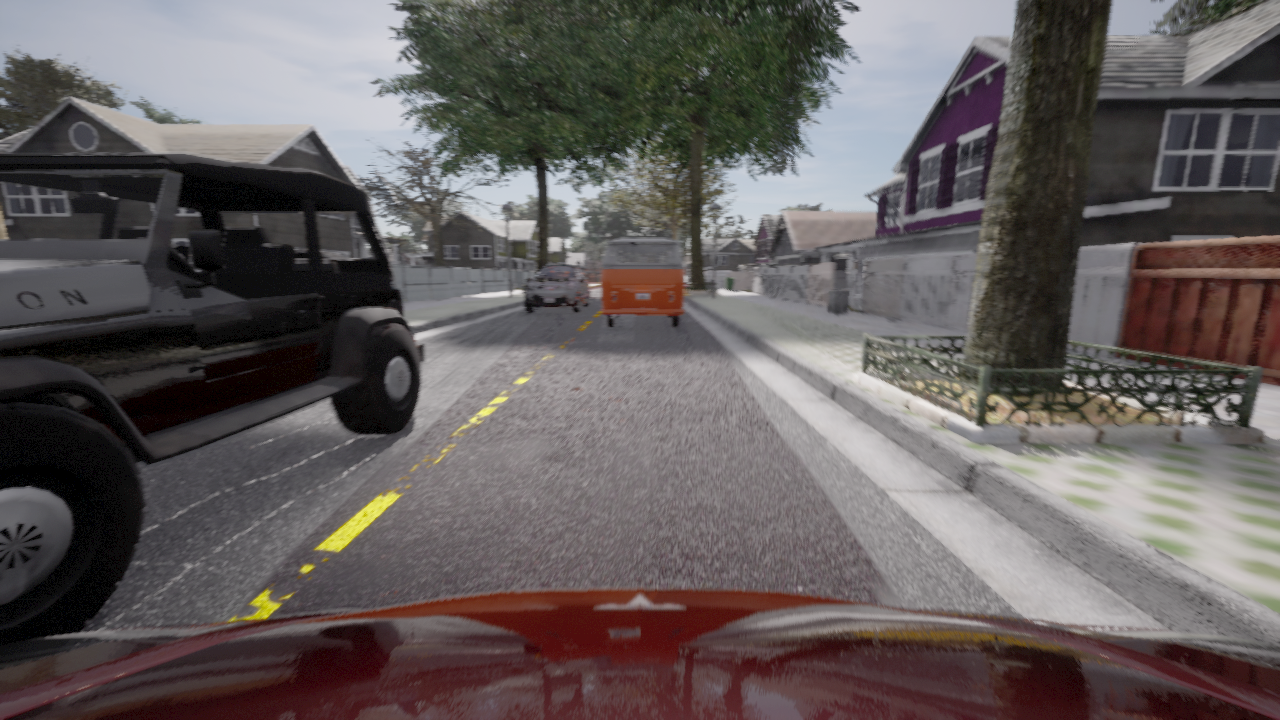cyclist: (0, 152, 423, 644), (0, 588, 1279, 719), (601, 238, 683, 326), (525, 264, 589, 312)
